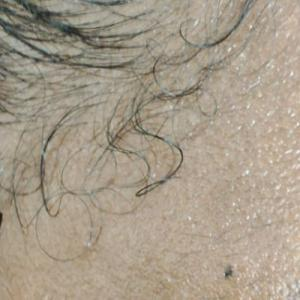Oily-Skin: (82, 216, 300, 300), (186, 75, 300, 221)
